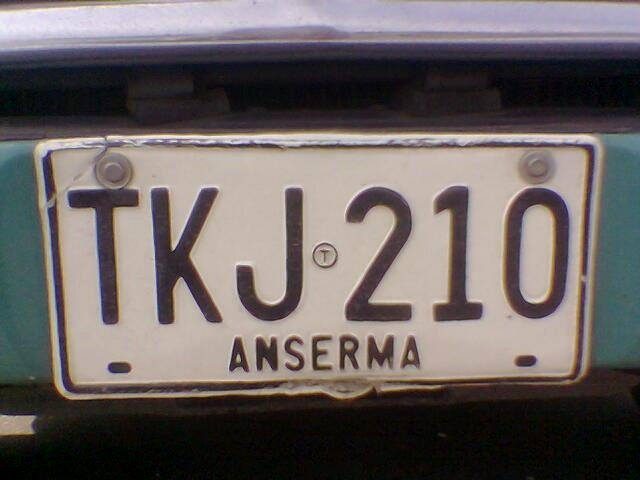placas: (26, 122, 607, 401)
